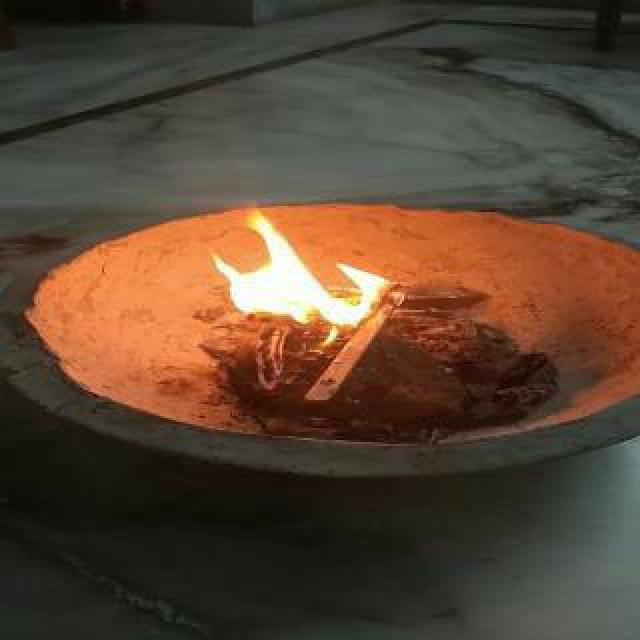zfire: (186, 202, 422, 340)
